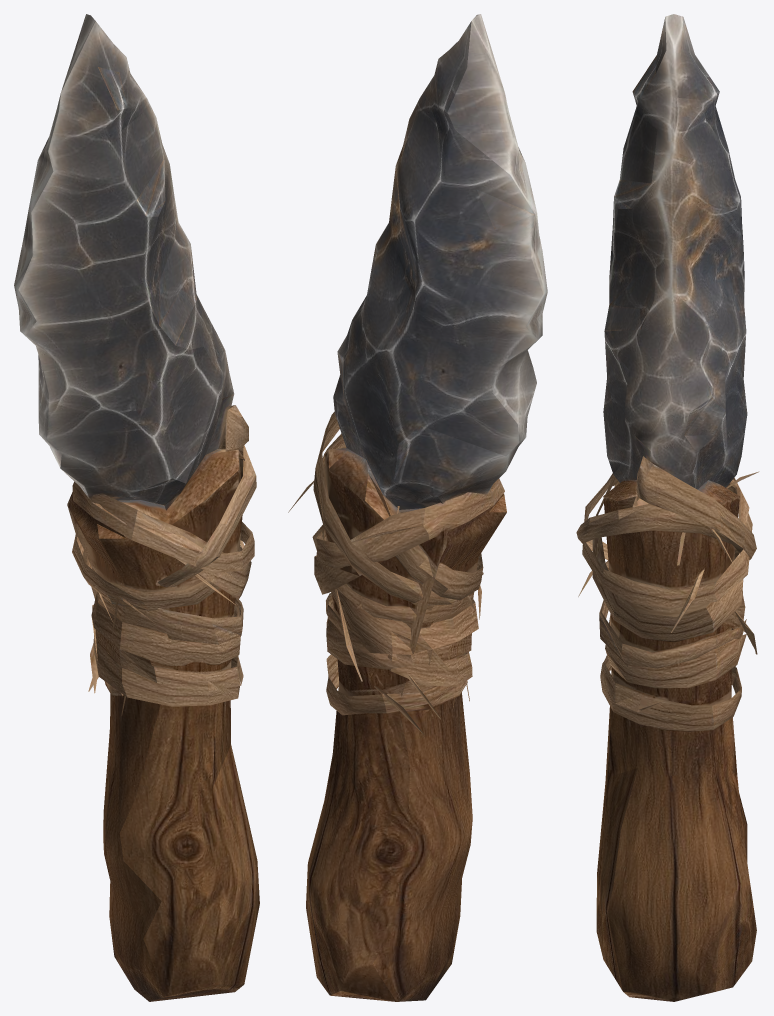
The model's file is speer_stein.glb.
3 views of the same model, side by side, from view 1: azimuth 30°, elevation 25°; view 2: azimuth 150°, elevation 25°; view 3: azimuth 270°, elevation 25° (orthographic). The views are drawn at different scales.
Bounding box in the file's own units: 0.2285 × 0.9521 × 0.1689.
Materials: 1 (1 with a texture image).
